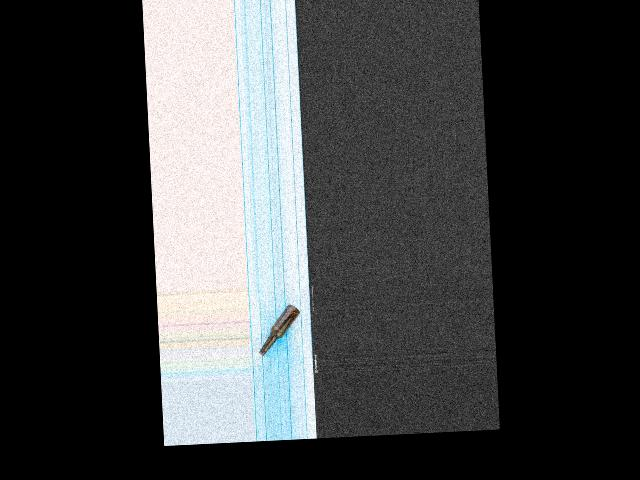beer: (256, 303, 302, 355)
